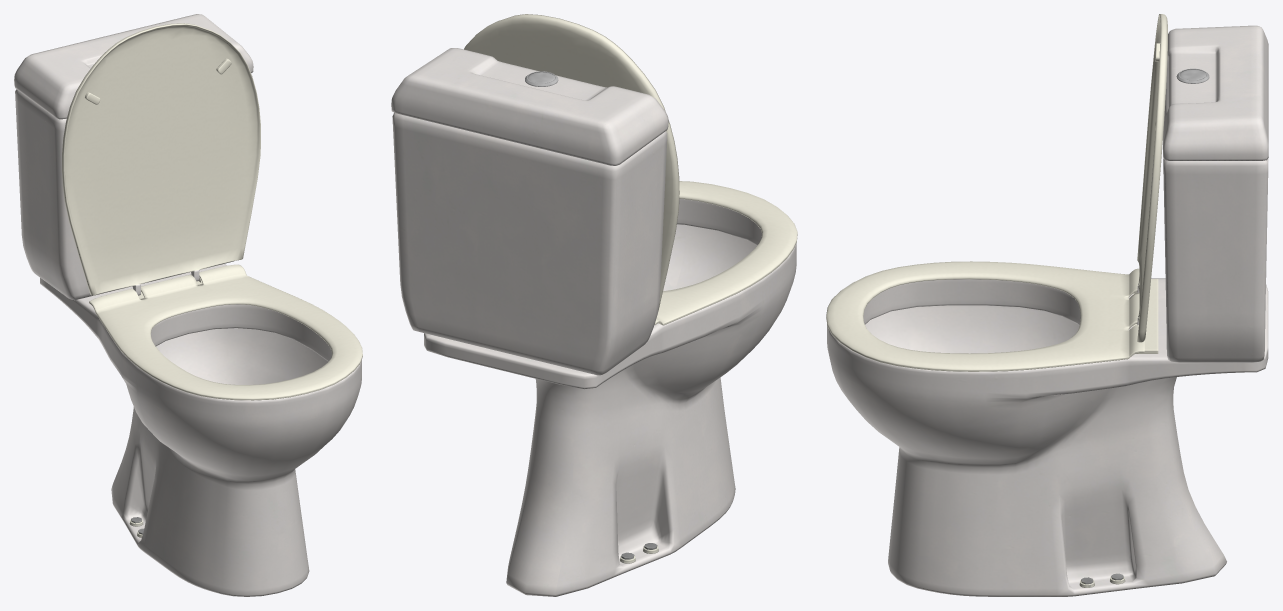
Rendered from commode.gltf.
3 views of the same model, side by side, from view 1: azimuth 30°, elevation 25°; view 2: azimuth 150°, elevation 25°; view 3: azimuth 270°, elevation 25° (orthographic). The views are drawn at different scales.
Visible parts, largest first — view 1: 10778_Toilet_V2; view 2: 10778_Toilet_V2; view 3: 10778_Toilet_V2.
Part boxes in pixels (<box>): 10778_Toilet_V2: <box>14,14,362,596</box>; 10778_Toilet_V2: <box>391,14,797,596</box>; 10778_Toilet_V2: <box>826,14,1268,596</box>.
Bounding box in the file's own units: 2.03 × 4.69 × 3.5.
1 material, 1 textured.
